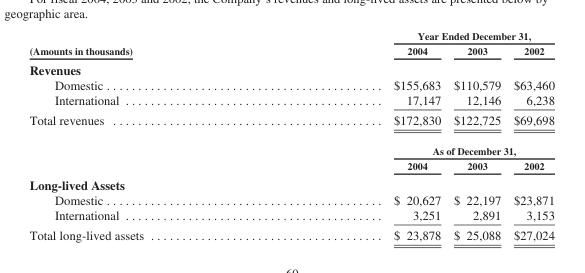table: (28, 29, 553, 242)
table column: (28, 29, 268, 242), (268, 29, 446, 242), (446, 29, 506, 242), (506, 29, 553, 242)
table column header: (28, 29, 553, 59)
table projected row header: (28, 59, 553, 77), (28, 174, 553, 192)
table row: (28, 110, 553, 135), (28, 135, 553, 157), (28, 59, 553, 77), (28, 92, 553, 110), (28, 174, 553, 192), (28, 207, 553, 225), (28, 42, 553, 59), (28, 157, 553, 174), (28, 225, 553, 242), (28, 77, 553, 92), (28, 192, 553, 207), (28, 29, 553, 42)
table spanning cell: (28, 29, 268, 59), (268, 135, 553, 157), (268, 29, 553, 42)
